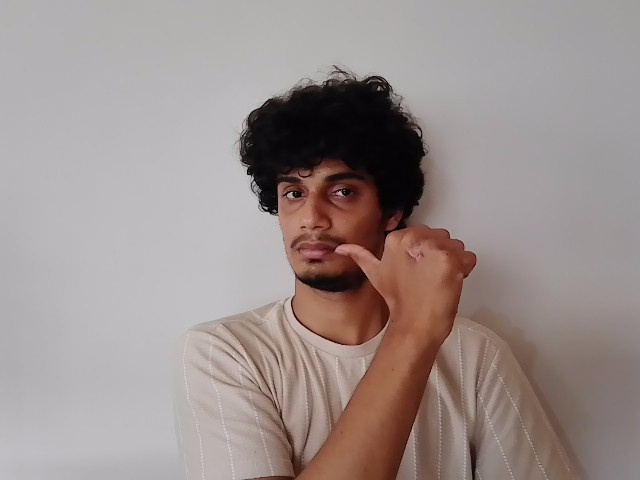drink: (269, 151, 482, 335)
